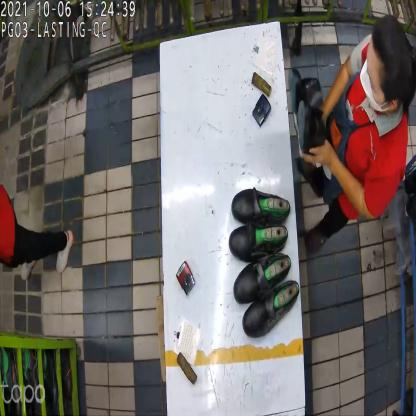shoes: (226, 250, 302, 335), (229, 184, 290, 257), (287, 69, 329, 154)
stamp: (251, 95, 271, 126), (179, 263, 196, 295)
